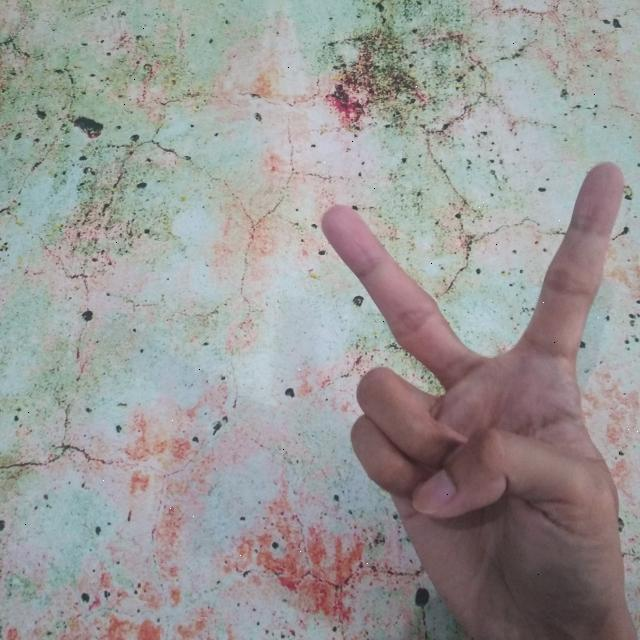V: (314, 154, 640, 640)
